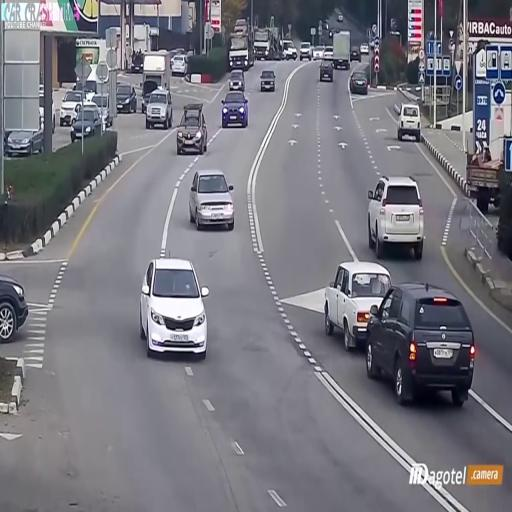小汽车: (370, 280, 475, 408), (139, 258, 208, 360), (365, 175, 427, 259), (328, 255, 374, 346), (190, 167, 236, 228), (0, 268, 32, 344), (68, 102, 102, 145), (224, 27, 256, 70), (146, 83, 174, 132), (178, 108, 208, 152), (219, 86, 250, 128), (395, 98, 422, 144), (328, 26, 352, 70), (114, 77, 138, 116), (348, 66, 370, 96), (226, 68, 250, 94), (258, 66, 279, 94), (318, 56, 334, 83), (296, 39, 312, 62), (350, 44, 364, 63)
